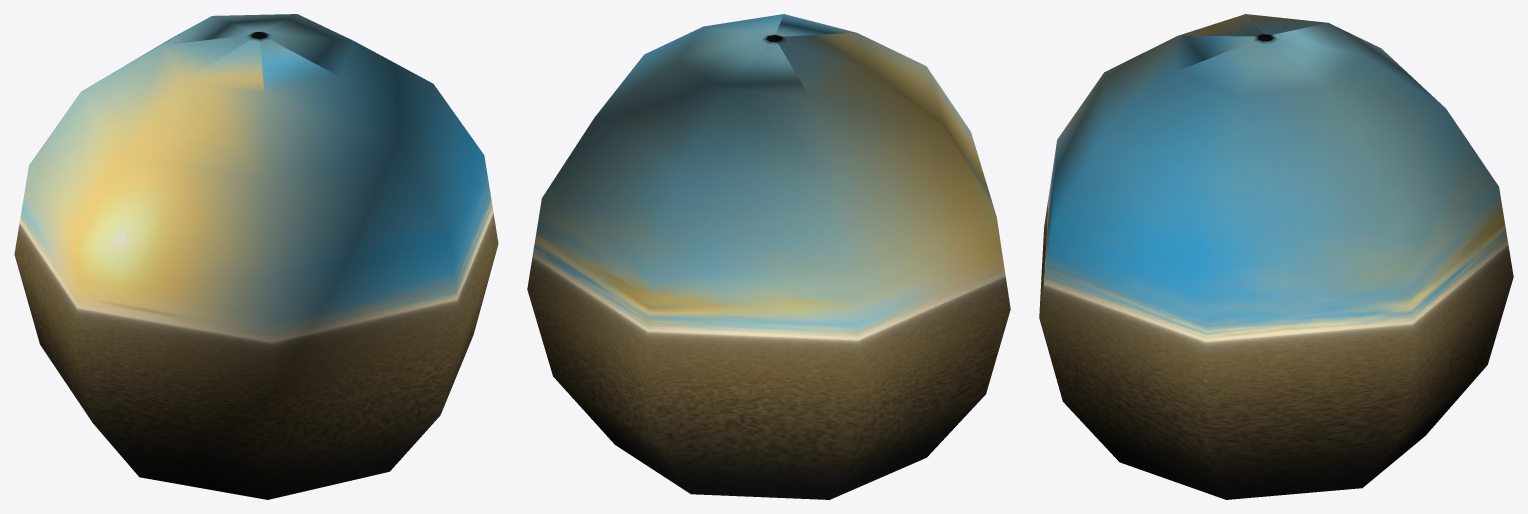
The model's file is skybox.glb.
The picture shows the model from 3 angles, left to right: view 1: azimuth 30°, elevation 25°; view 2: azimuth 150°, elevation 25°; view 3: azimuth 270°, elevation 25°; orthographic projection.
Parts seen in each view (by area): view 1: skybox; view 2: skybox; view 3: skybox.
Boxes of the visible parts, <box> form: skybox: <box>14,14,498,499</box>; skybox: <box>527,14,1010,499</box>; skybox: <box>1039,14,1513,499</box>.
Bounding box in the file's own units: 45255 × 41043 × 44346.
1 material, 1 textured.
